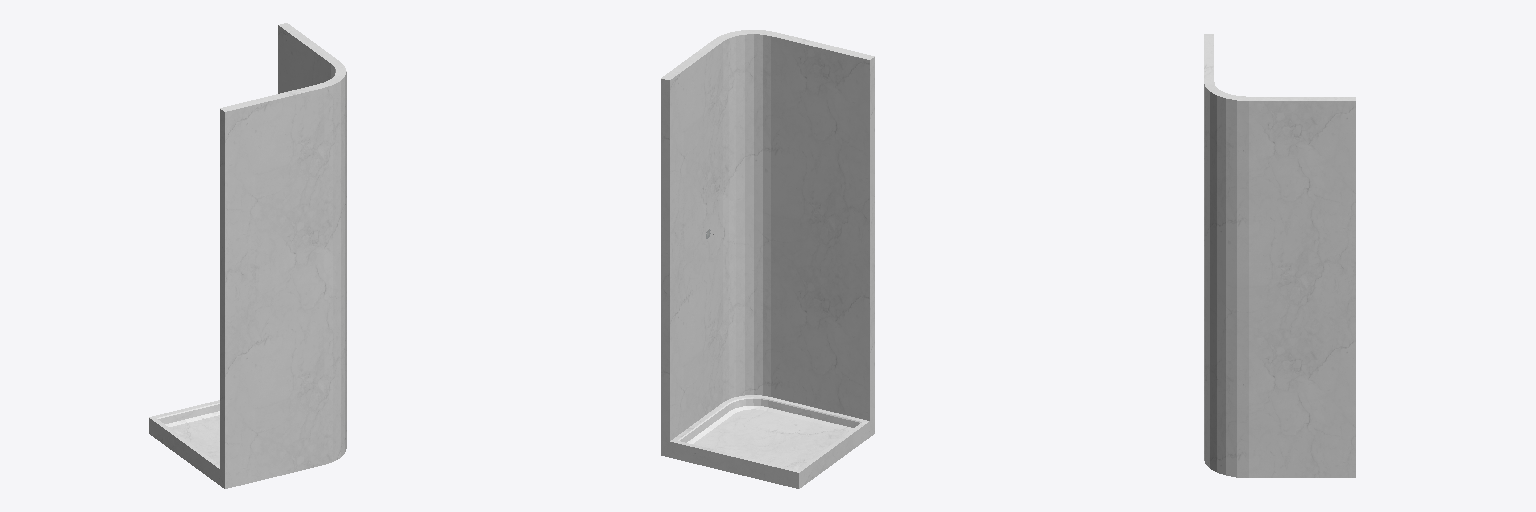
The picture shows the model from 3 angles: view 1: azimuth 30°, elevation 25°; view 2: azimuth 150°, elevation 25°; view 3: azimuth 270°, elevation 25°; orthographic projection.
Parts seen in each view (by area): view 1: mesh; view 2: mesh; view 3: mesh.
Boxes of the visible parts, x1,y1,x2,y2 form: mesh: [149, 23, 346, 488]; mesh: [661, 30, 874, 488]; mesh: [1204, 34, 1355, 477].
Bounding box in the file's own units: 45.93 × 120 × 43.76.
Materials: 1 (1 with a texture image).